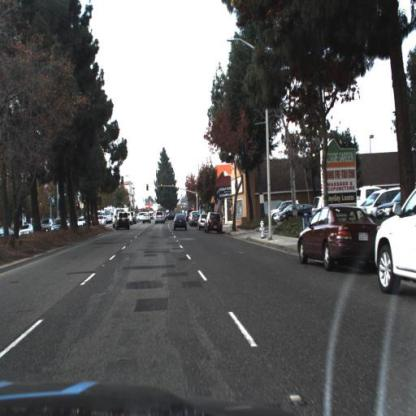car: (296, 203, 384, 274), (375, 184, 416, 294), (204, 210, 226, 241), (281, 204, 315, 218), (171, 212, 192, 233), (114, 210, 133, 233), (188, 210, 202, 231), (189, 209, 201, 231), (198, 210, 208, 234), (153, 209, 167, 226), (51, 218, 66, 232), (144, 215, 154, 224)
